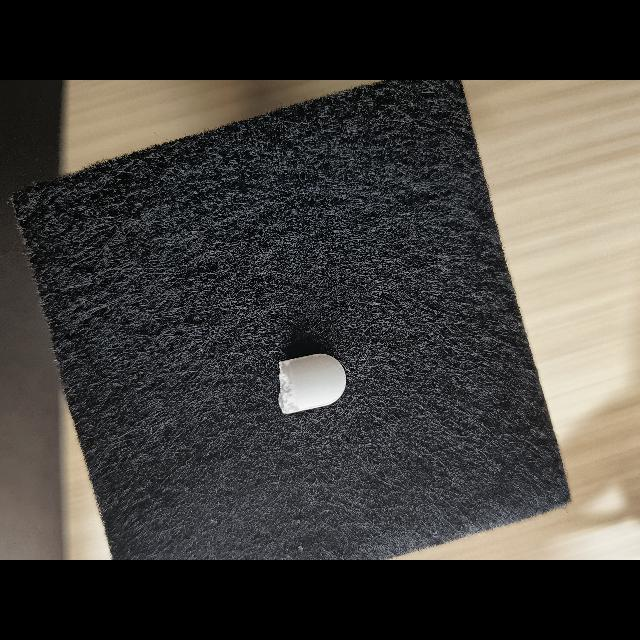Chipped Pill: (278, 354, 346, 414)
